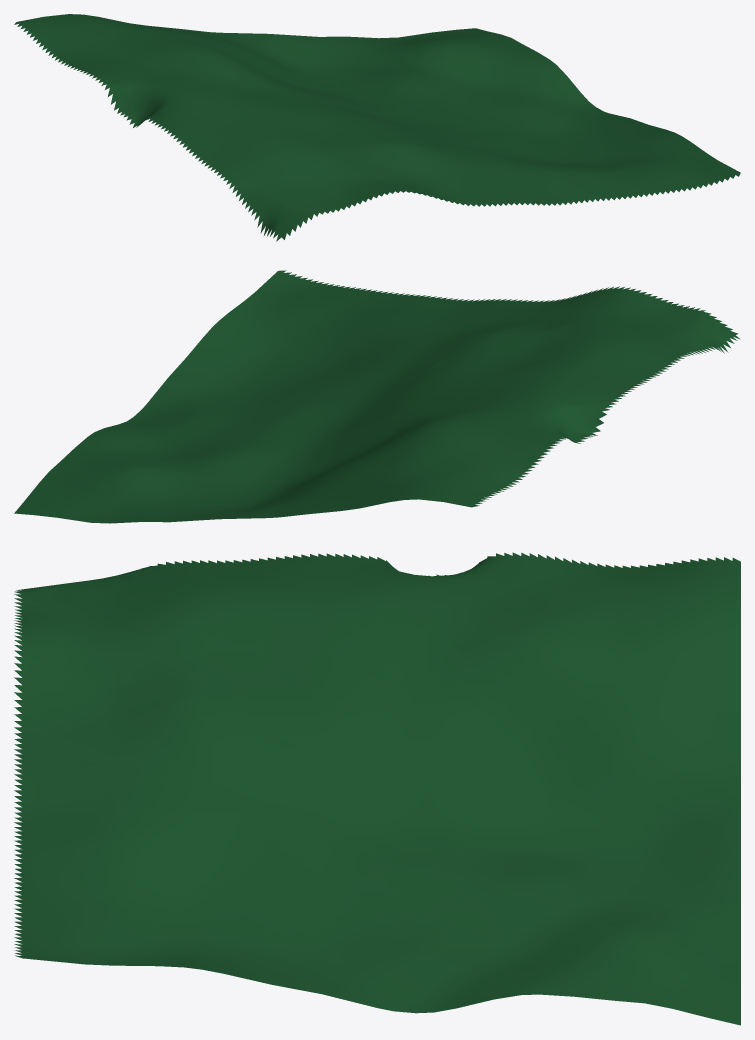
File: payo_land_xm2_ym2_lod2.glb
The picture shows the model from 3 angles, top to bottom: view 1: azimuth 30°, elevation 25°; view 2: azimuth 150°, elevation 25°; view 3: azimuth 270°, elevation 25°; orthographic projection. The views are drawn at different scales.
Visible parts, largest first — view 1: payo_land_xm2_ym2; view 2: payo_land_xm2_ym2; view 3: payo_land_xm2_ym2.
Part boxes in pixels (x1,y1,x2,y2): payo_land_xm2_ym2: (14, 14, 740, 241); payo_land_xm2_ym2: (14, 270, 740, 523); payo_land_xm2_ym2: (14, 552, 740, 1025).
Bounding box in the file's own units: 258 × 66.13 × 258.
